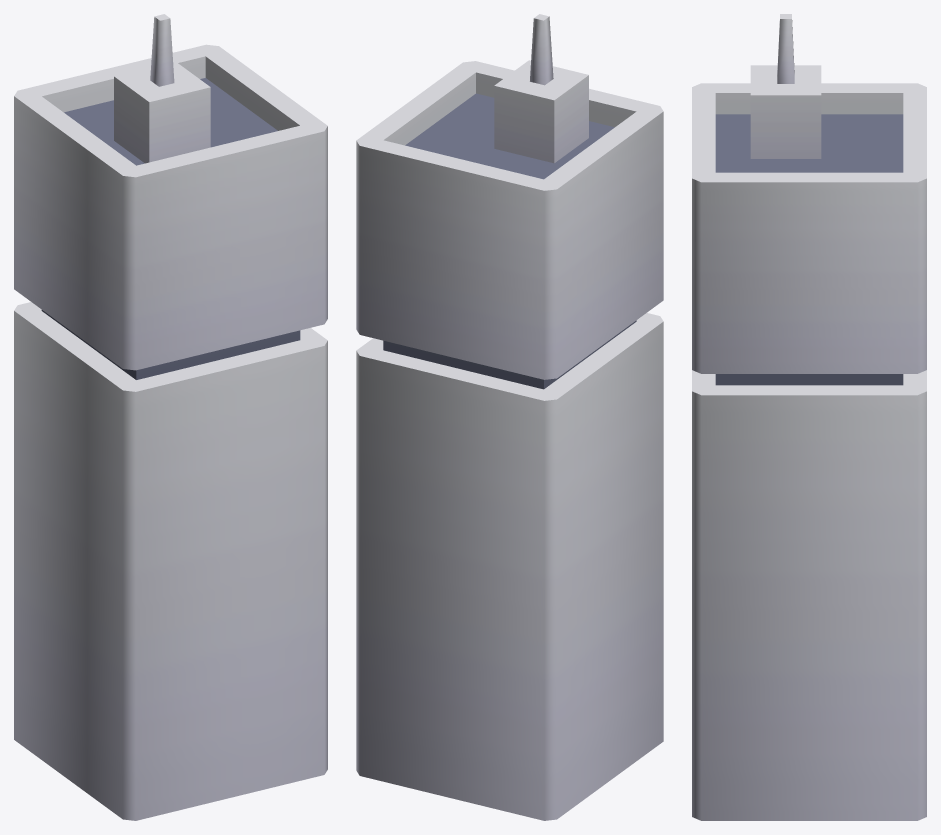
The model's file is low-detail-building-d.glb.
3 renders of one model, left to right at view 1: azimuth 30°, elevation 25°; view 2: azimuth 150°, elevation 25°; view 3: azimuth 270°, elevation 25°, orthographic. The views are drawn at different scales.
Parts seen in each view (by area): view 1: low-detail-building-d; view 2: low-detail-building-d; view 3: low-detail-building-d.
Boxes of the visible parts, box(x1,y1,x2,y2) form: low-detail-building-d: box(14, 14, 327, 820); low-detail-building-d: box(356, 14, 663, 820); low-detail-building-d: box(692, 14, 926, 820).
Size of the model in its own units: 0.4999 by 1.75 by 0.4999.
Materials: 1 (1 with a texture image).
